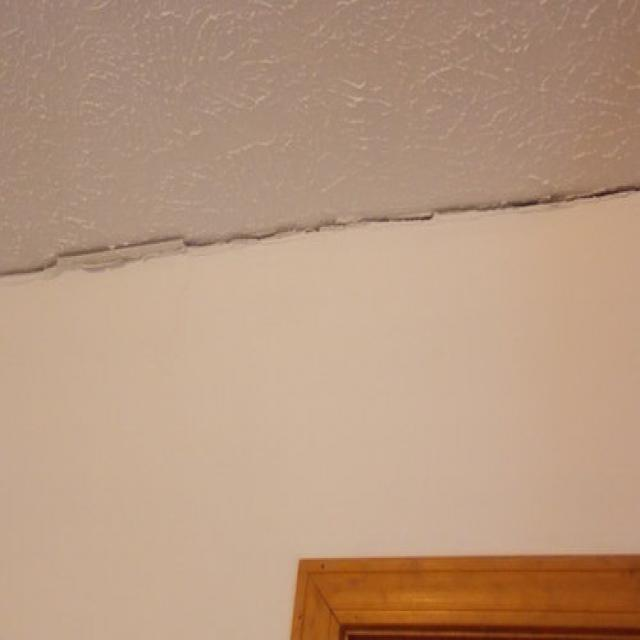Crack: (3, 183, 640, 282)
